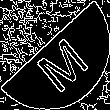M_NW: (23, 21, 87, 89)
